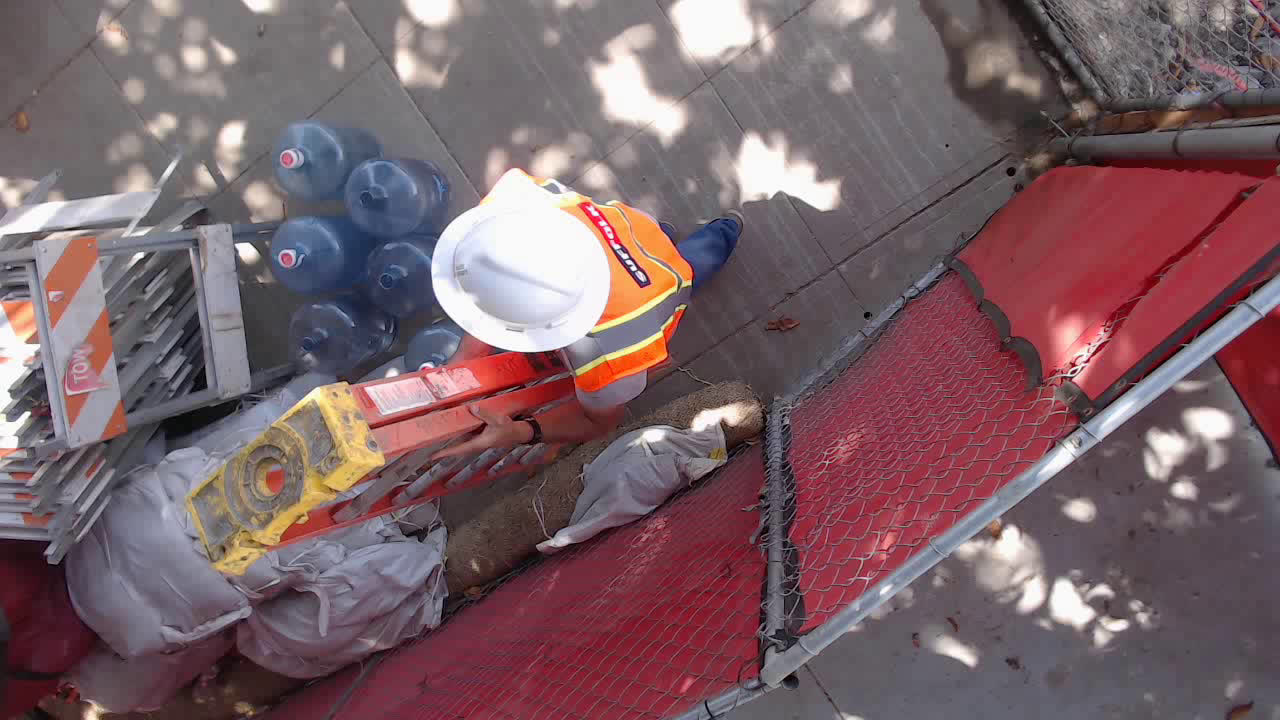hardhat: (428, 198, 609, 356)
safetyvest: (526, 180, 692, 393)
